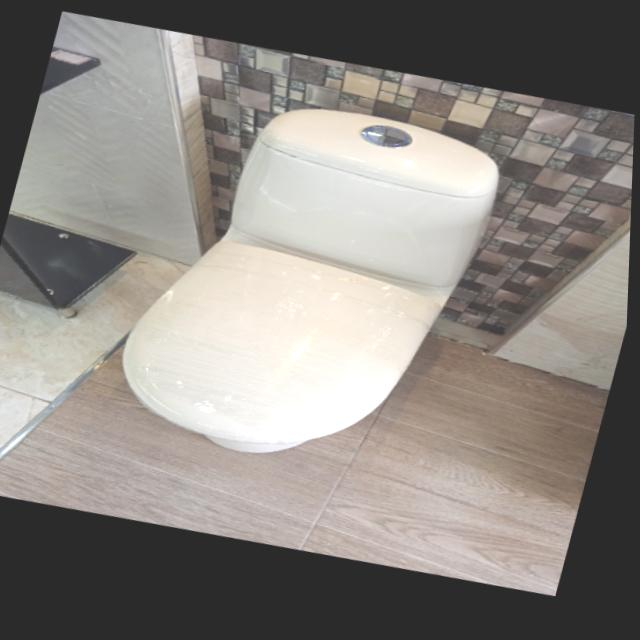toilet: (103, 71, 515, 502)
